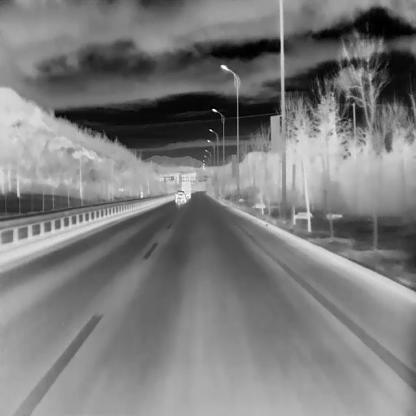car: (174, 190, 187, 203), (182, 181, 191, 198)
